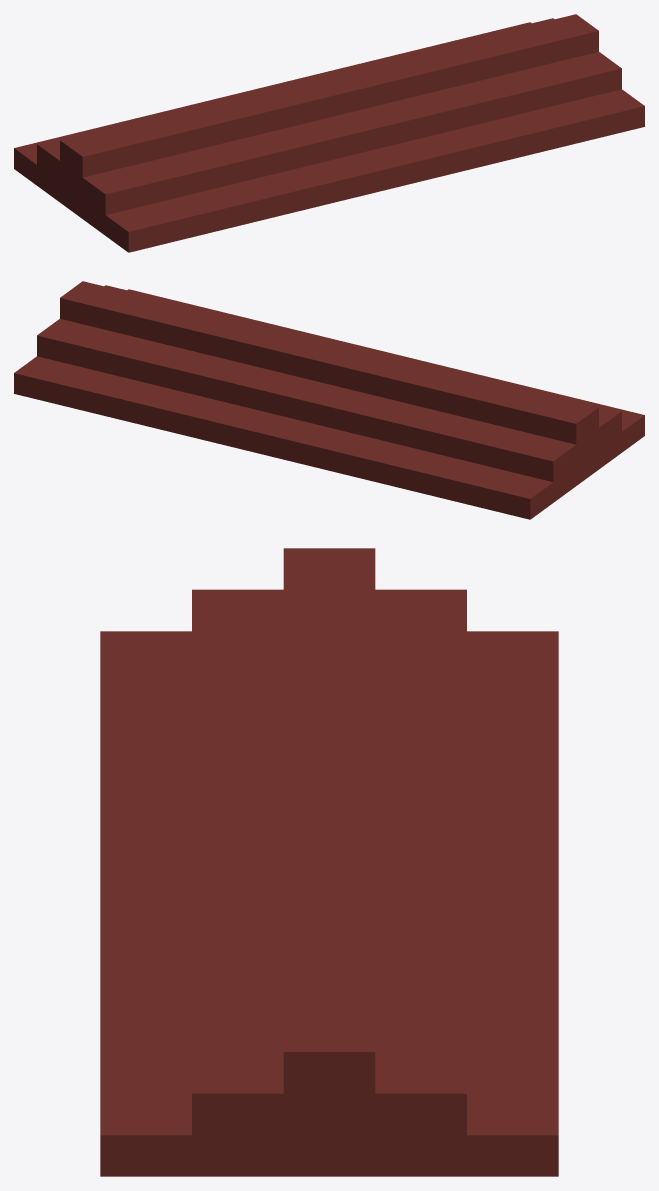
File: tomb_b_b_lid.obj
3 renders of one model, top to bottom at view 1: azimuth 30°, elevation 25°; view 2: azimuth 150°, elevation 25°; view 3: azimuth 270°, elevation 25°, orthographic. The views are drawn at different scales.
Size of the model in its own units: 2.6 by 0.3 by 1.
Materials: 1 (1 with a texture image).
